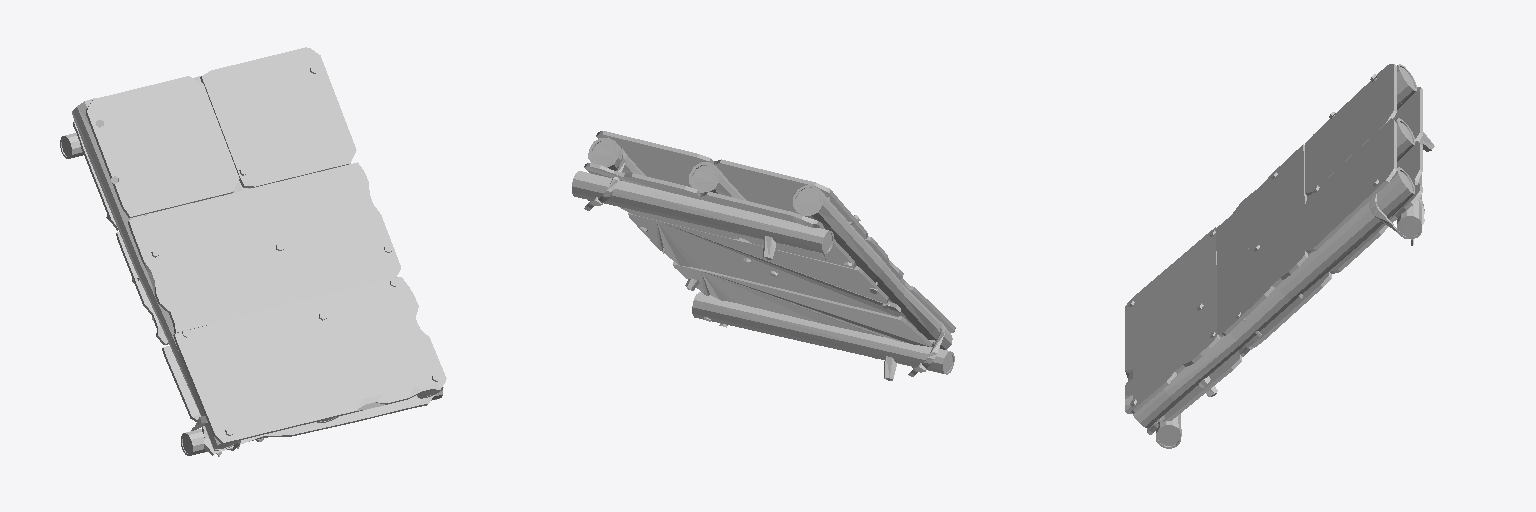
Rendered from RaftFloorSteep.obj.
3 renders of one model, left to right at view 1: azimuth 30°, elevation 25°; view 2: azimuth 150°, elevation 25°; view 3: azimuth 270°, elevation 25°, orthographic.
Parts seen in each view (by area): view 1: Cube.001; view 2: Cube.001; view 3: Cube.001.
Boxes of the visible parts, box(x1,y1,x2,y2) form: Cube.001: box(60, 47, 446, 456); Cube.001: box(572, 131, 955, 380); Cube.001: box(1125, 64, 1434, 448).
Bounding box in the file's own units: 4.27 × 4.58 × 4.57.